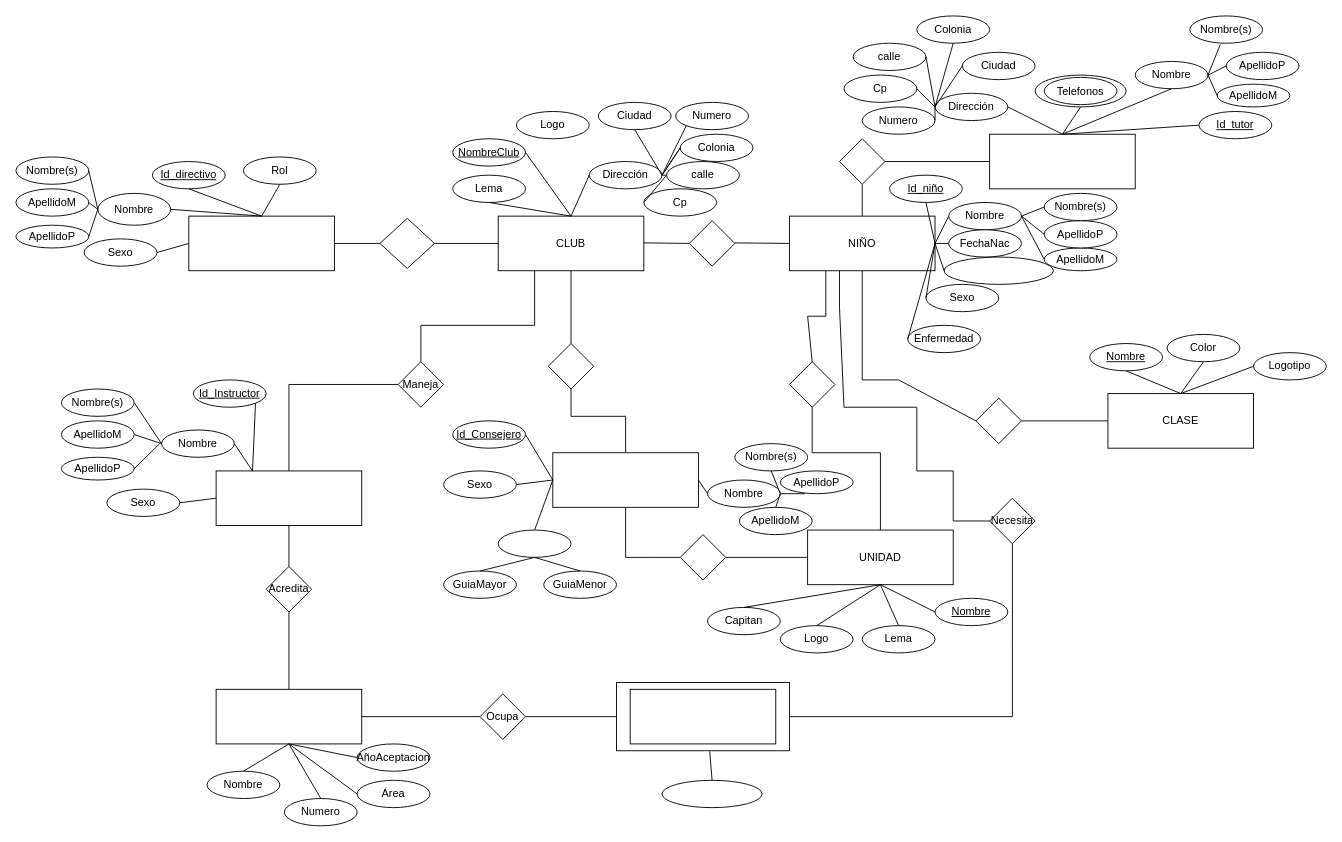
Image size: 1342x842. Some labels were removed from this diagram. Here are the shapes that lost their labels. From the top down, the centre of each, then its label:
(862,161): Tiene
(1062,161): TUTOR
(261,243): DIRECTIVA
(407,242): Pertenece
(711,243): Participa
(998,270): ContactoEmergencia
(570,366): Contiene
(812,384): Registra
(998,420): Trabaja
(288,498): INSTRUCTOR
(625,479): CONSEJERO
(534,543): Aspiracion
(702,557): Revisa
(288,716): ESPECIALIDAD
(702,716): REQUISITO
(711,793): FechaCompletado
